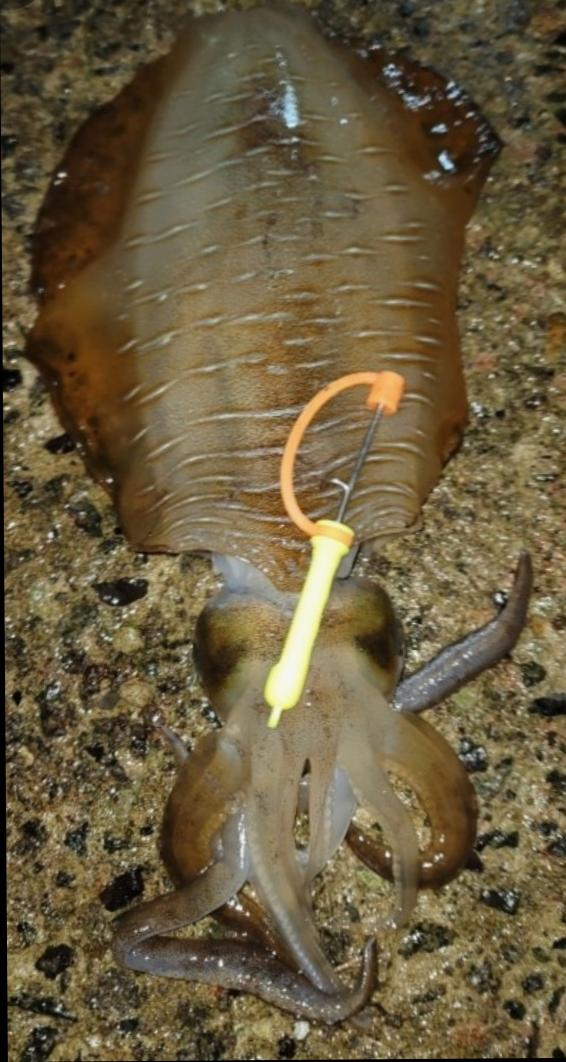Cephalopod: (26, 2, 529, 1021)
